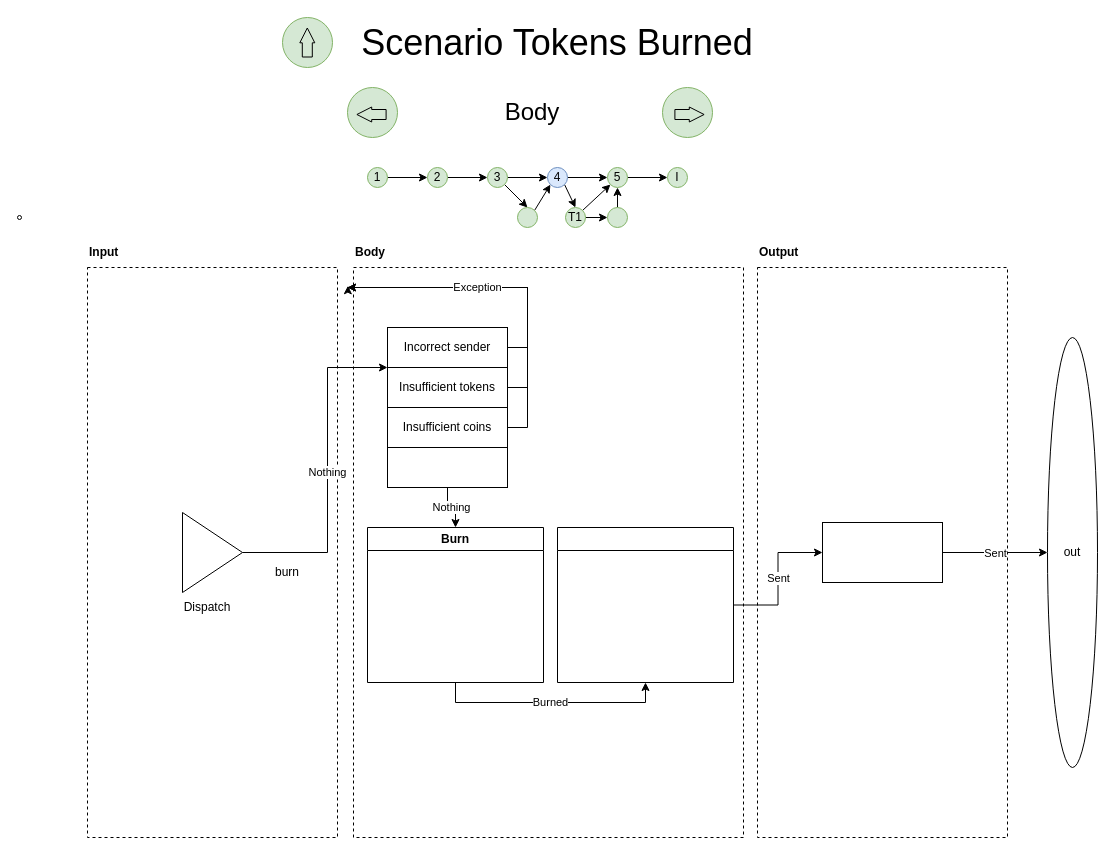
Some shapes in this 1115 by 855 pixel diagram are drawn without their labels. The box of each missing label's shape, as (x1, y1, x2, y2) in pixels:
autorun: (182, 512, 242, 592)
Otherwise: (386, 446, 508, 488)
S1: (516, 206, 538, 228)
S2: (606, 206, 628, 228)
Send notification: (556, 526, 734, 682)
Tokens burned: (822, 522, 942, 582)
